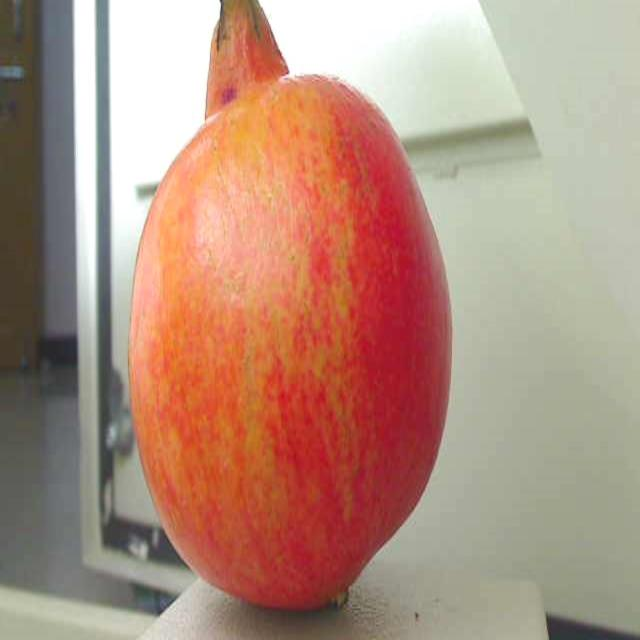pomegranate: (118, 0, 465, 640)
